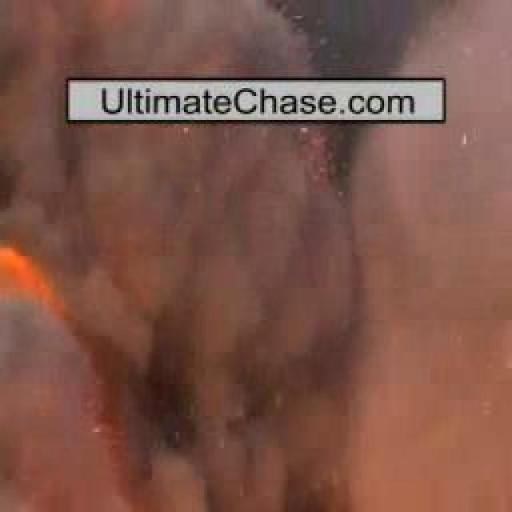smoke: (0, 230, 109, 346), (46, 2, 182, 32)
